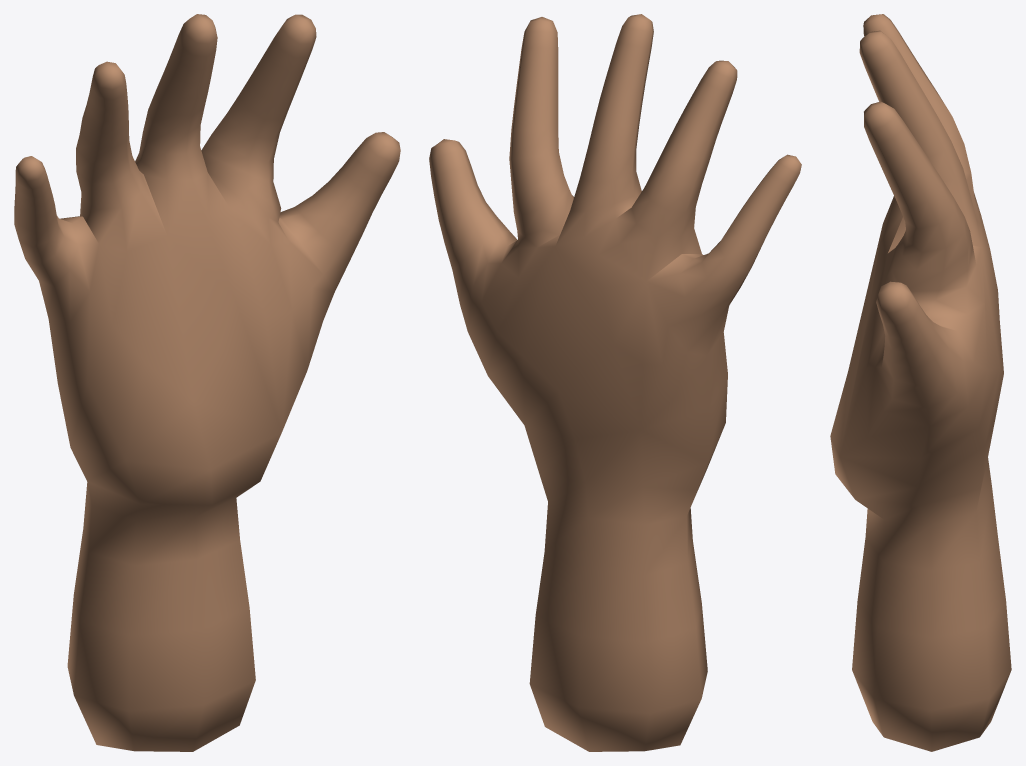
The model's file is hand.fbx.
3 views of the same model, side by side, from view 1: azimuth 30°, elevation 25°; view 2: azimuth 150°, elevation 25°; view 3: azimuth 270°, elevation 25° (orthographic). The views are drawn at different scales.
Parts seen in each view (by area): view 1: hand; view 2: hand; view 3: hand.
Part boxes in pixels (x1,y1,x2,y2): hand: [14, 14, 400, 751]; hand: [429, 14, 801, 751]; hand: [830, 14, 1011, 751].
Bounding box in the file's own units: 0.3332 × 0.1439 × 0.6237.
